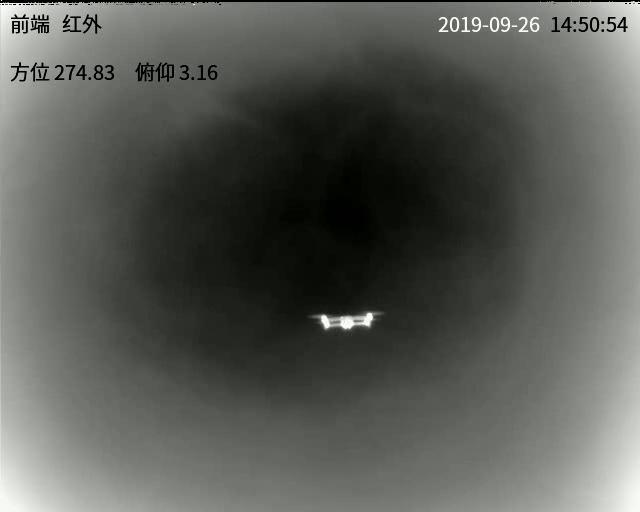DRONE: (313, 312, 377, 329)
